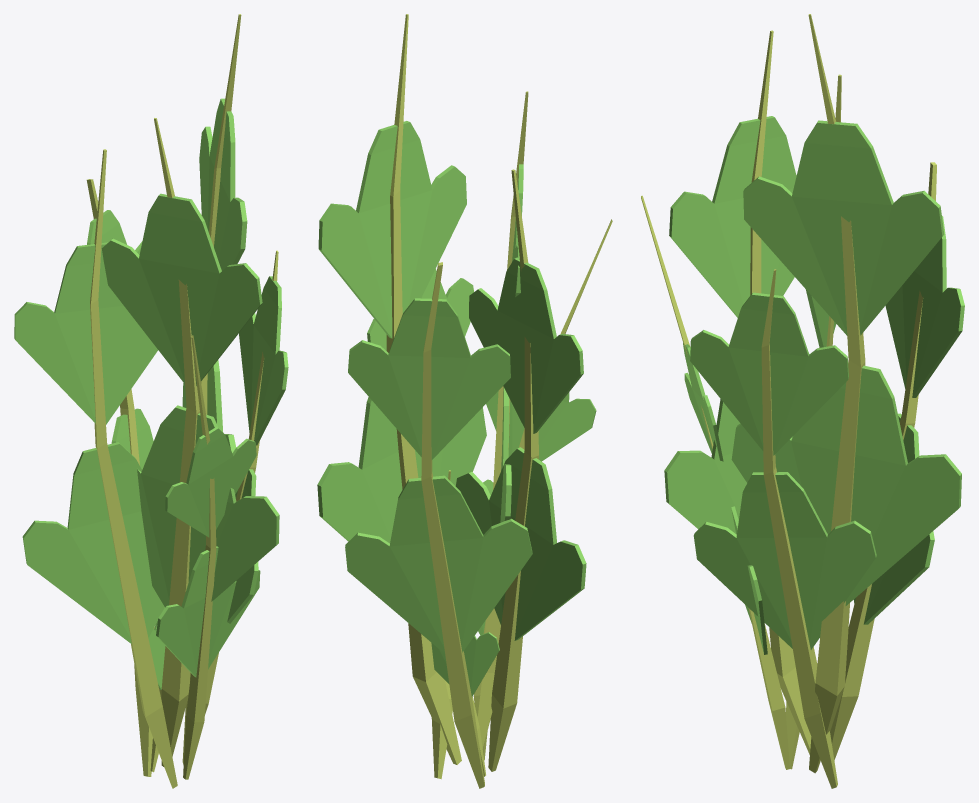
File: Carrot_6.fbx
3 renders of one model, left to right at view 1: azimuth 30°, elevation 25°; view 2: azimuth 150°, elevation 25°; view 3: azimuth 270°, elevation 25°, orthographic. The views are drawn at different scales.
Visible parts, largest first — view 1: 6_Carrot; view 2: 6_Carrot; view 3: 6_Carrot.
Part boxes in pixels (x1,y1,x2,y2): 6_Carrot: [14, 14, 288, 788]; 6_Carrot: [317, 14, 612, 788]; 6_Carrot: [641, 14, 964, 788].
Bounding box in the file's own units: 13.6 × 42.63 × 15.71.
